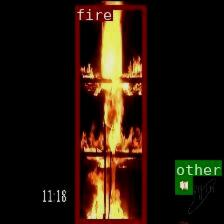fire: (74, 4, 145, 222)
